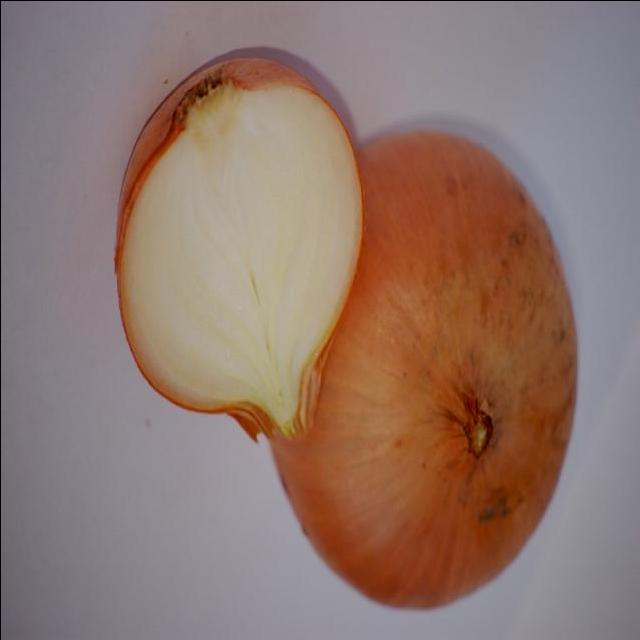onion: (268, 125, 578, 611), (113, 53, 361, 439)
